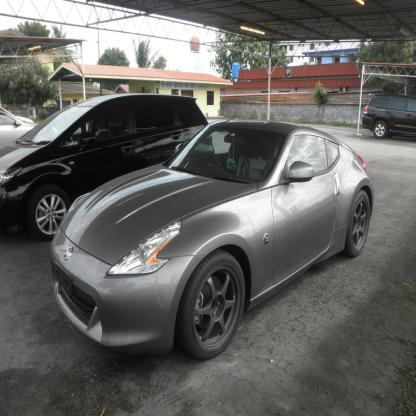Car: (51, 119, 374, 359), (0, 93, 214, 240), (362, 94, 415, 139), (0, 104, 38, 146)
